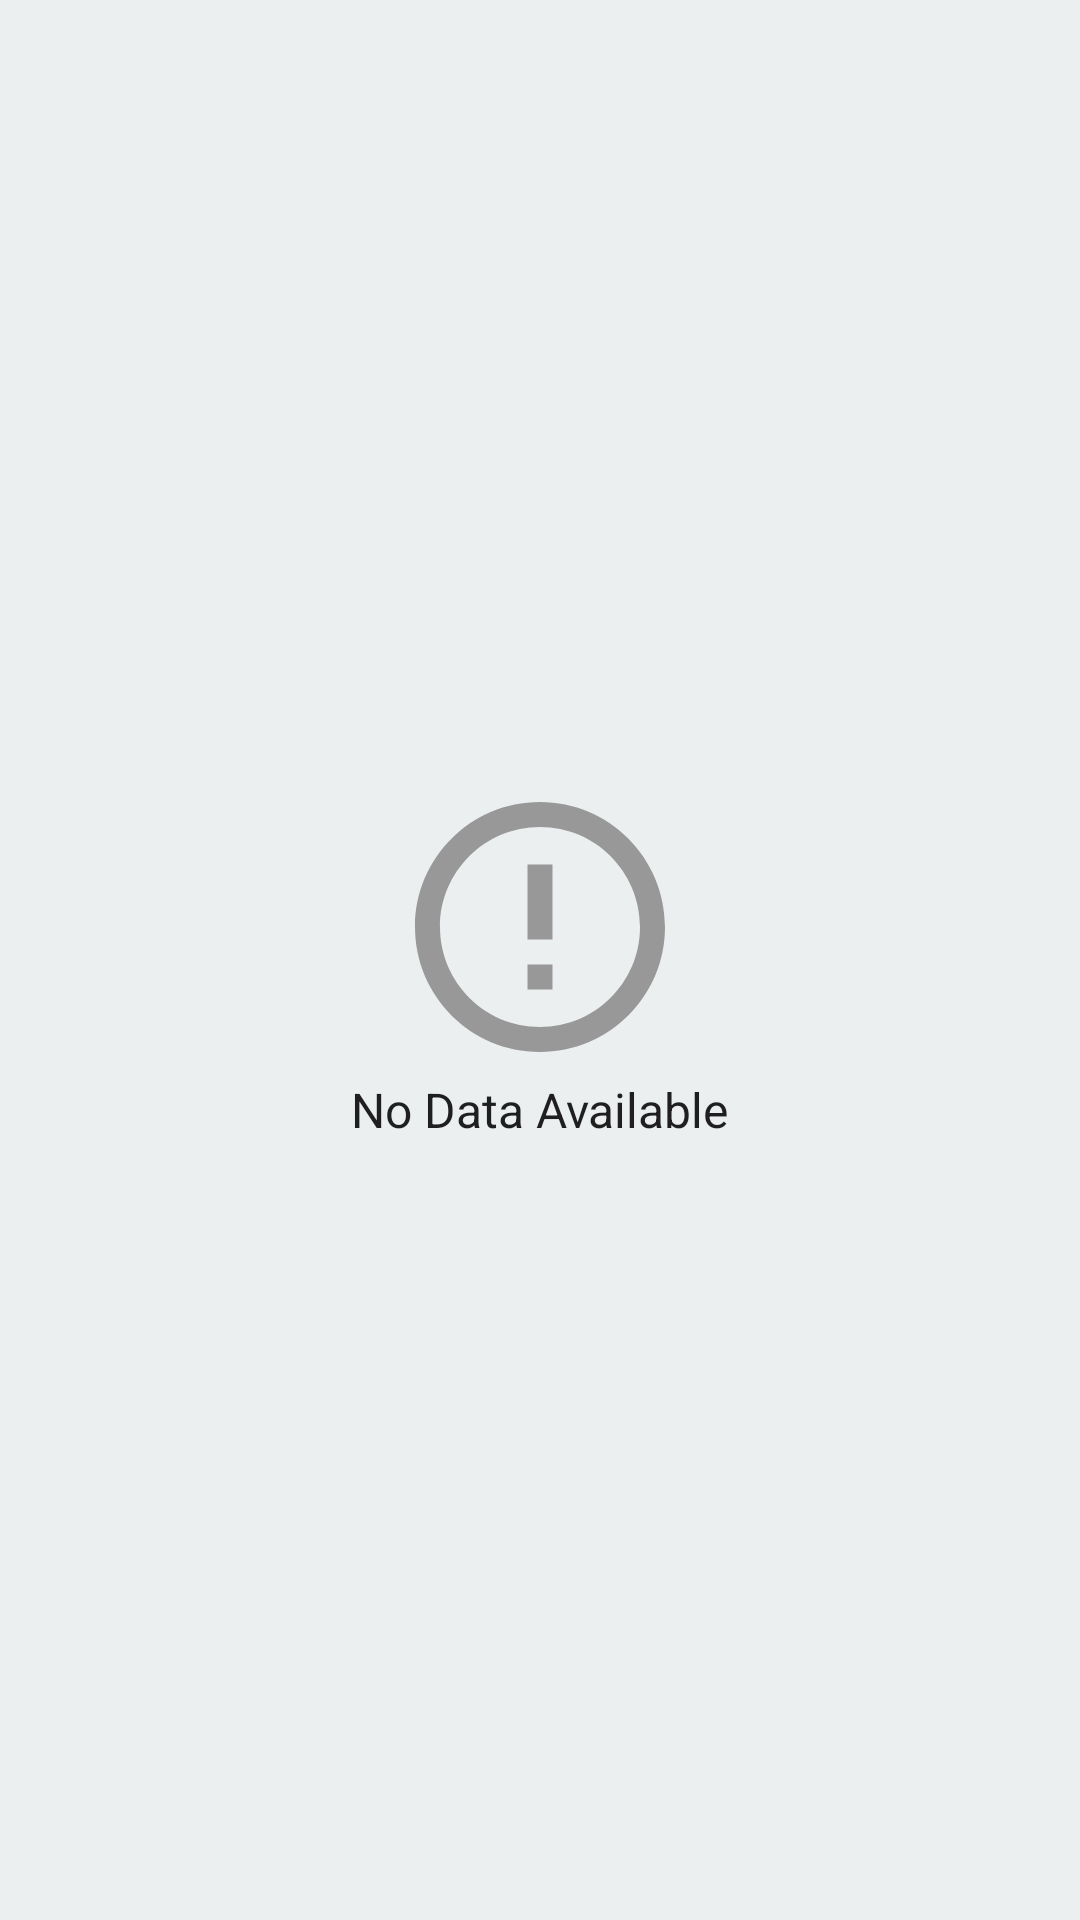

Named icons in this screenshot (1080×1920) and their bounding boxes, {"x1": x1, "y1": y1, "x2": x2, "y2": y2}:
No Chat found: {"x1": 415, "y1": 802, "x2": 665, "y2": 1052}
